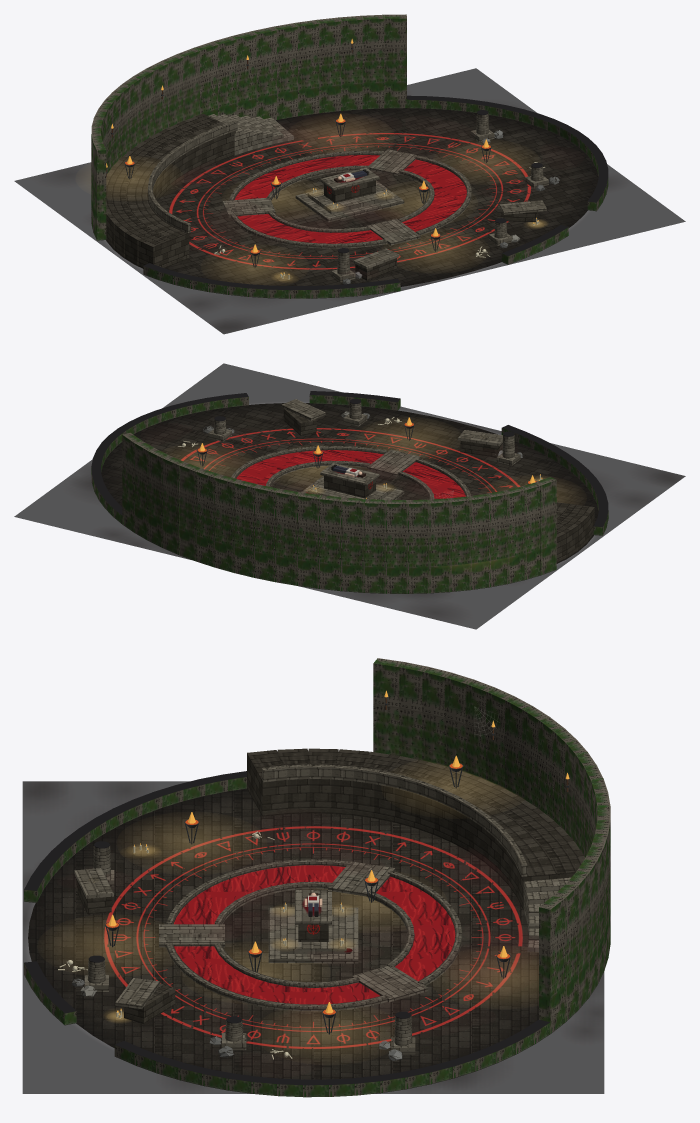
File: cripta_trecho4.glb
3 renders of one model, top to bottom at view 1: azimuth 30°, elevation 25°; view 2: azimuth 150°, elevation 25°; view 3: azimuth 270°, elevation 25°, orthographic. The views are drawn at different scales.
Parts seen in each view (by area): view 1: cel_4_2, cel_4_0, cel_5_0, cel_3_0, cel_3_1, cel_2_1, cel_2_2, cel_3_3, cel_4_1, cel_5_3, cel_5_2, cel_5_1 (+5 smaller); view 2: cel_4_2, cel_3_0, cel_4_0, cel_2_1, cel_5_0, cel_3_3, cel_5_3, cel_3_1, cel_5_2, cel_2_2, cel_4_3, cel_6_2 (+1 smaller); view 3: cel_4_2, cel_2_1, cel_3_1, cel_3_0, cel_5_0, cel_2_2, cel_4_1, cel_5_2, cel_3_3, cel_4_0, cel_5_3, cel_5_1 (+5 smaller).
Boxes of the visible parts, x1,y1,x2,y2 form: cel_4_2: (14,68,685,334); cel_4_0: (193,20,320,155); cel_5_0: (316,14,428,113); cel_3_0: (113,48,235,175); cel_3_1: (105,92,300,222); cel_2_1: (91,100,161,249); cel_2_2: (114,206,212,291); cel_3_3: (247,248,400,298); cel_4_1: (216,113,381,195); cel_5_3: (488,193,602,257); cel_5_2: (408,139,559,216); cel_5_1: (367,96,502,176); cel_4_2: (14,363,685,629); cel_3_0: (295,492,430,593); cel_4_0: (177,462,300,585); cel_2_1: (447,477,566,591); cel_5_0: (112,432,183,554); cel_3_3: (458,425,595,486); cel_5_3: (224,391,378,435); cel_3_1: (427,491,453,593); cel_5_2: (177,416,328,486); cel_2_2: (556,494,608,557); cel_4_3: (375,395,436,451); cel_6_2: (109,398,210,444); cel_4_2: (22,781,604,1093); cel_2_1: (331,658,515,834); cel_3_1: (328,696,559,917); cel_3_0: (497,706,602,910); cel_5_0: (525,858,597,1044); cel_2_2: (154,748,338,816); cel_4_1: (332,850,538,997); cel_5_2: (193,975,367,1059); cel_3_3: (24,808,155,914); cel_4_0: (523,778,610,984); cel_5_3: (30,955,175,1065); cel_5_1: (335,965,535,1063).
Bounding box in the file's own units: 29.95 × 5.37 × 25.43.
94 materials, 56 textured.
